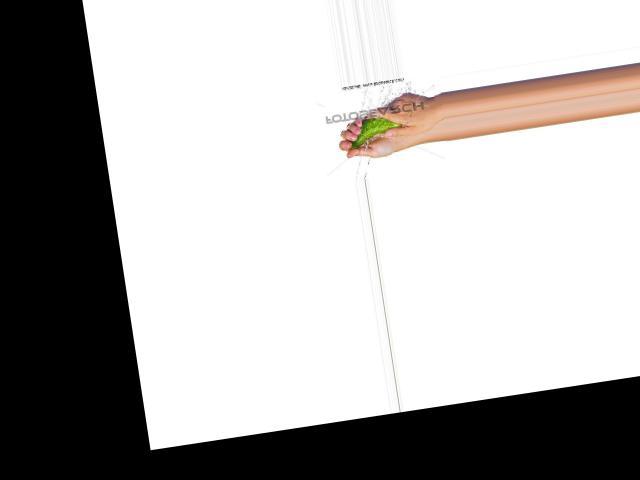cucumber: (346, 112, 406, 149)
